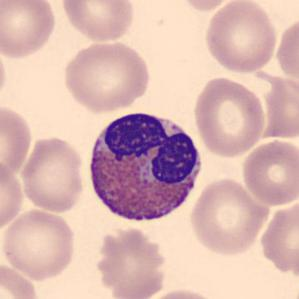Eosinophil: (82, 103, 208, 230)
RBC: (186, 175, 272, 258), (61, 38, 153, 113), (190, 74, 268, 159), (93, 224, 172, 299), (0, 208, 78, 282), (202, 0, 279, 74), (18, 134, 87, 215), (239, 137, 298, 208), (257, 197, 299, 284), (0, 0, 58, 62), (58, 0, 137, 43), (256, 76, 299, 142), (0, 100, 34, 180), (0, 157, 26, 234), (272, 20, 299, 84), (0, 261, 42, 299), (142, 286, 222, 299), (176, 0, 239, 13), (0, 40, 9, 109)
